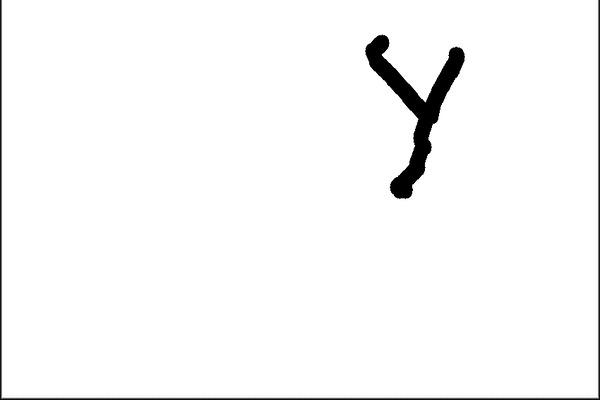Y: (358, 34, 473, 209)
